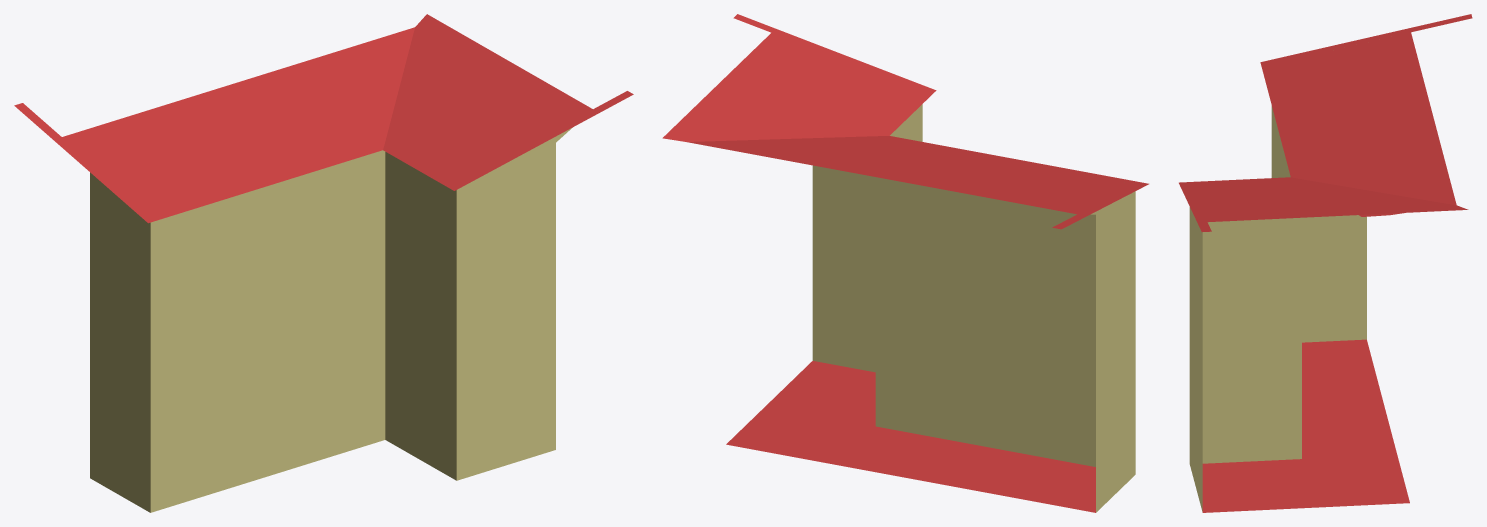
3 renders of one model, left to right at view 1: azimuth 30°, elevation 25°; view 2: azimuth 150°, elevation 25°; view 3: azimuth 270°, elevation 25°, orthographic. The views are drawn at different scales.
Bounding box in the file's own units: 12.62 × 7.19 × 8.53.
